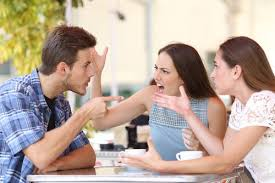person: (15, 16, 103, 146), (134, 37, 216, 149), (205, 30, 275, 160)
